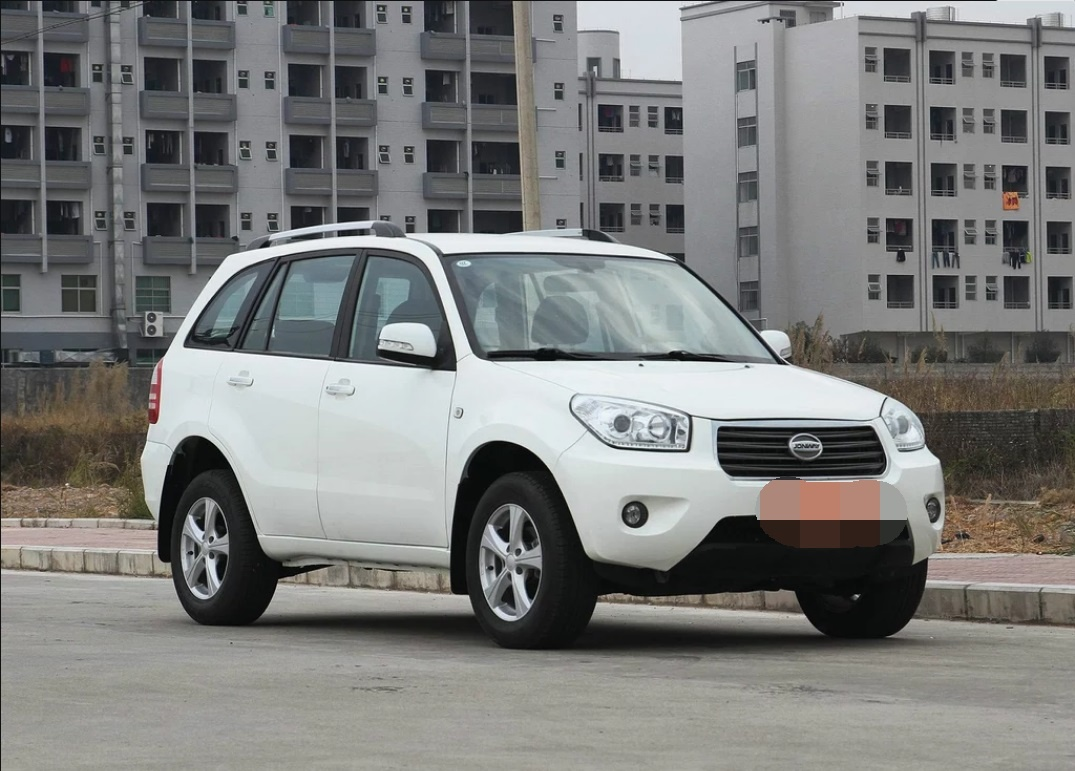SUV: (123, 197, 964, 666)
